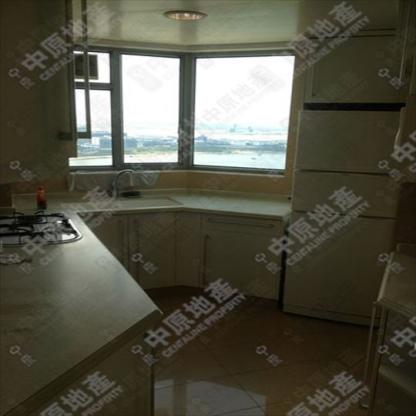Cupboard: (83, 211, 285, 299)
Exhaust Fan: (74, 53, 98, 80)
Faucet: (111, 169, 139, 195)
Fridge: (278, 110, 399, 325)
Sink: (69, 196, 183, 210)
Stove: (0, 211, 81, 246)
